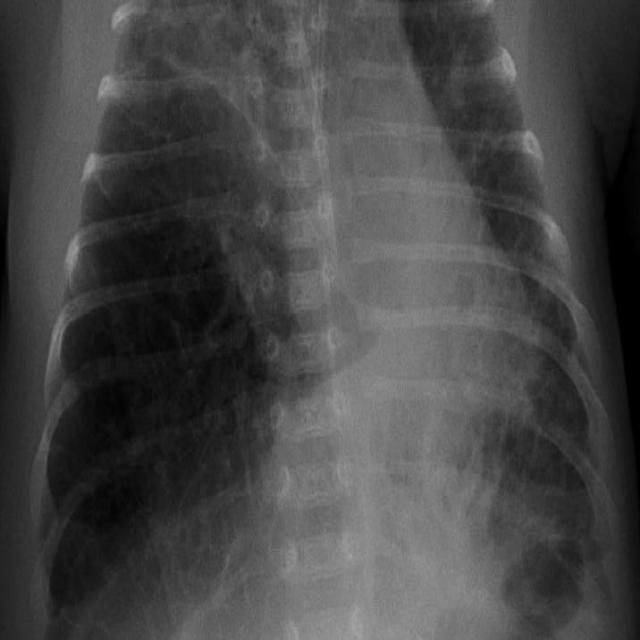viral_pneumonia: (16, 6, 640, 640)
